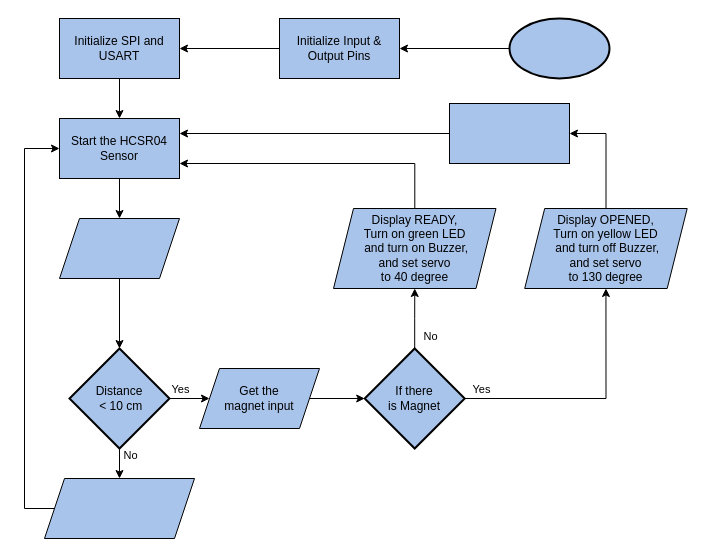
The diagram is 705 pixels wide and 556 high, and some of its shapes have lost their labels. Each missing label, with the box of its shape:
Delay for 2 seconds: (448, 102, 570, 164)
Display COOKING, Turn off all LED and Buzzer, and set servo to 40 degree: (44, 478, 194, 538)
get the calculated distance: (58, 218, 180, 278)
Start: (508, 17, 610, 79)
